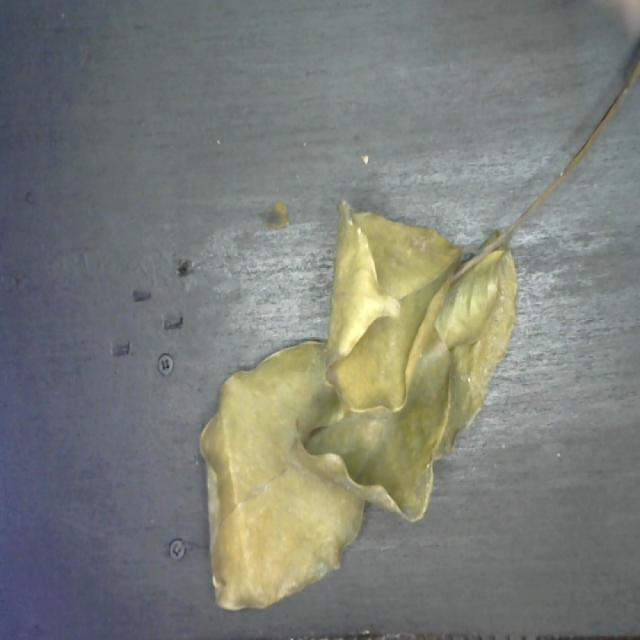biodegradable: (195, 191, 516, 609)
